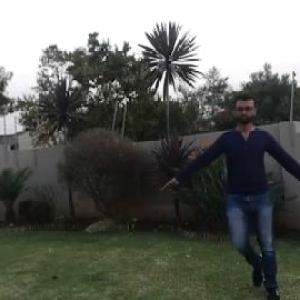land: (166, 102, 299, 274)
